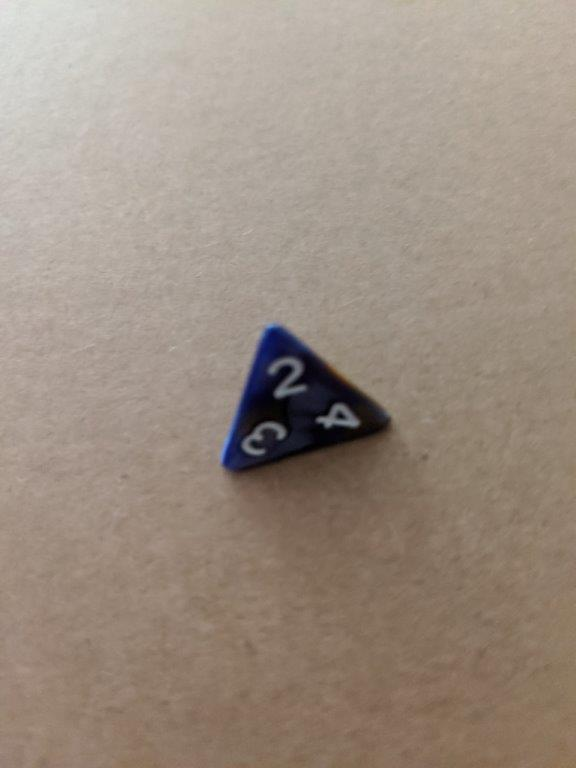d4-2: (218, 321, 396, 476)
